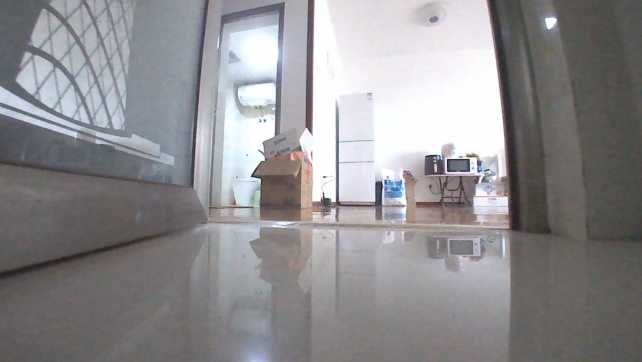door_sill: (207, 215, 512, 232)
refrigerator: (334, 89, 378, 206)
toilet: (228, 174, 261, 206)
